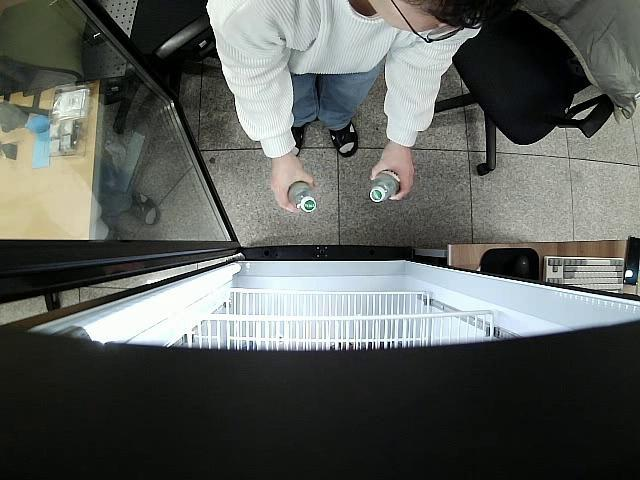18_trevi: (367, 170, 402, 204), (288, 182, 318, 215)
